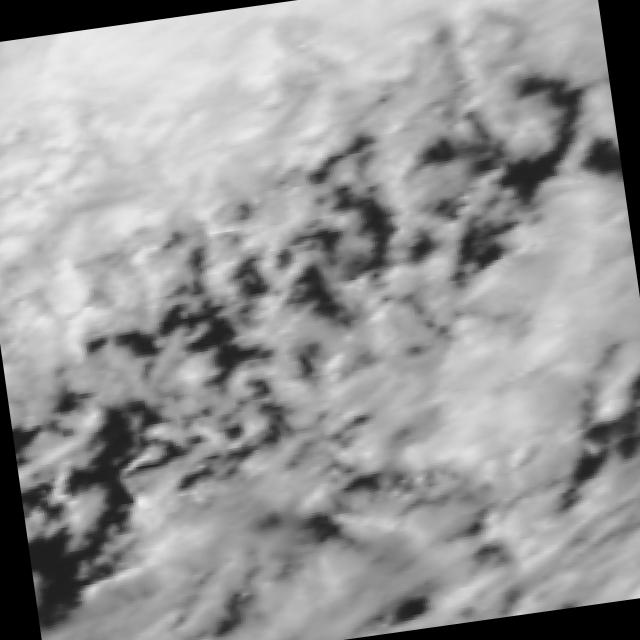CB: (26, 0, 335, 157)
